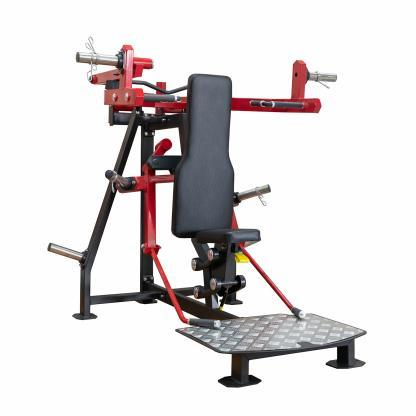shoulder press machine: (48, 47, 369, 387)
